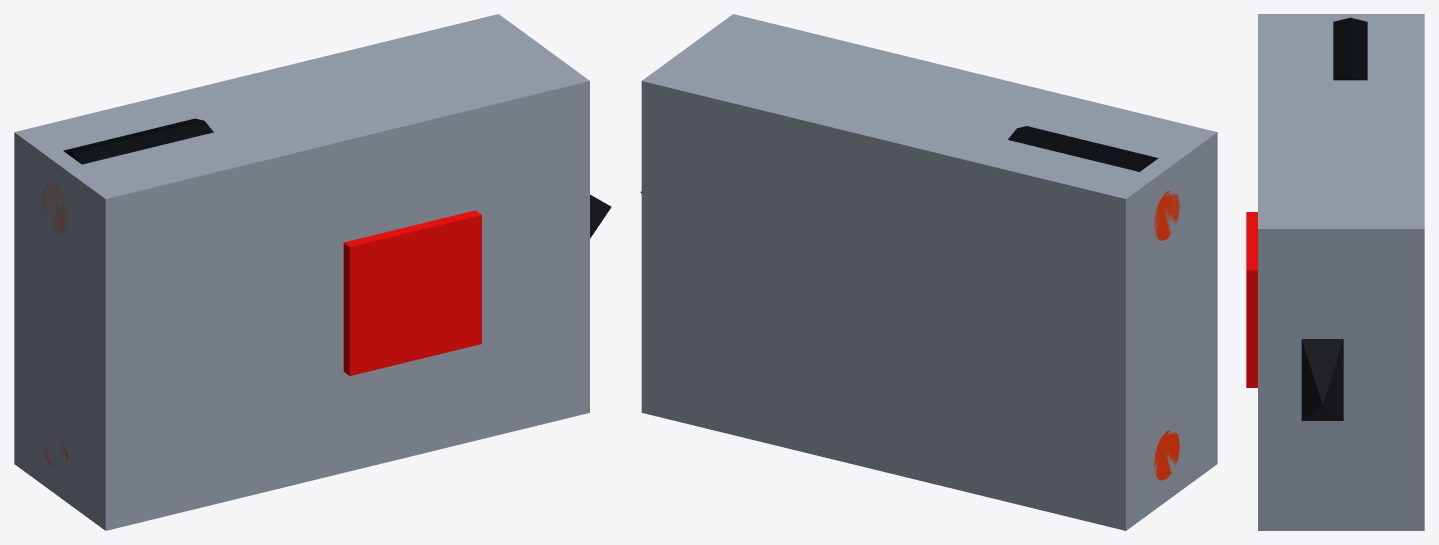
Rendered from tank.obj.
3 renders of one model, left to right at view 1: azimuth 30°, elevation 25°; view 2: azimuth 150°, elevation 25°; view 3: azimuth 270°, elevation 25°, orthographic. The views are drawn at different scales.
Parts seen in each view (by area): view 1: tank; view 2: tank; view 3: tank.
Part boxes in pixels (<box>): tank: <box>14,14,611,530</box>; tank: <box>640,14,1217,530</box>; tank: <box>1246,14,1424,530</box>.
Bounding box in the file's own units: 6.15 × 3.7 × 1.92.
